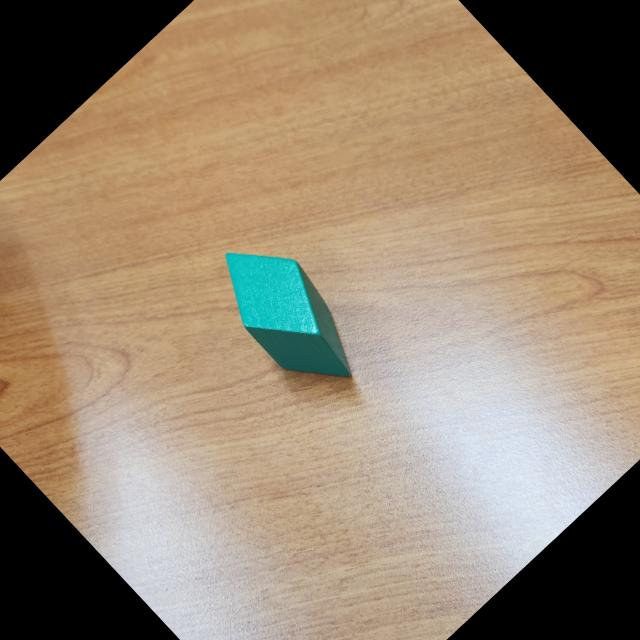green: (196, 220, 382, 410)
